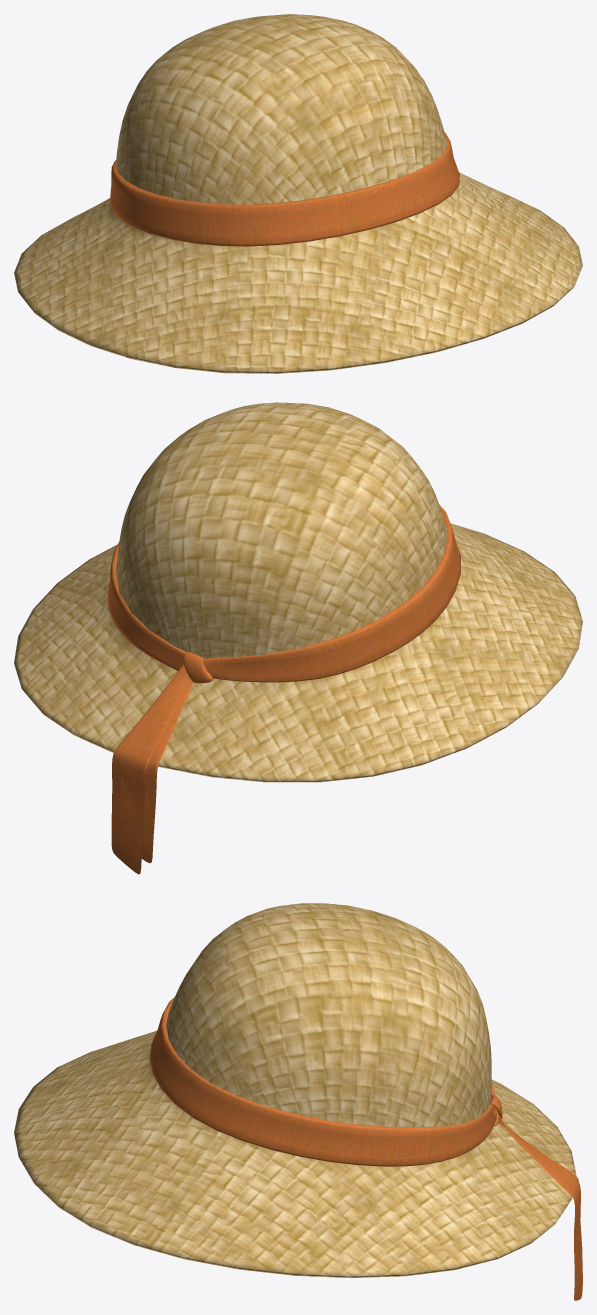
File: female_beach_hat.glb
The picture shows the model from 3 angles, top to bottom: view 1: azimuth 30°, elevation 25°; view 2: azimuth 150°, elevation 25°; view 3: azimuth 270°, elevation 25°; orthographic projection.
Parts seen in each view (by area): view 1: Cube, Cube.001; view 2: Cube, Cube.001; view 3: Cube, Cube.001.
Part boxes in pixels (<box>): Cube: <box>14,14,582,373</box>; Cube.001: <box>110,132,459,246</box>; Cube: <box>14,402,582,782</box>; Cube.001: <box>108,505,460,874</box>; Cube: <box>14,903,576,1278</box>; Cube.001: <box>149,997,582,1300</box>.
Bounding box in the file's own units: 3.76 × 2.67 × 3.79.
1 material, 1 textured.
